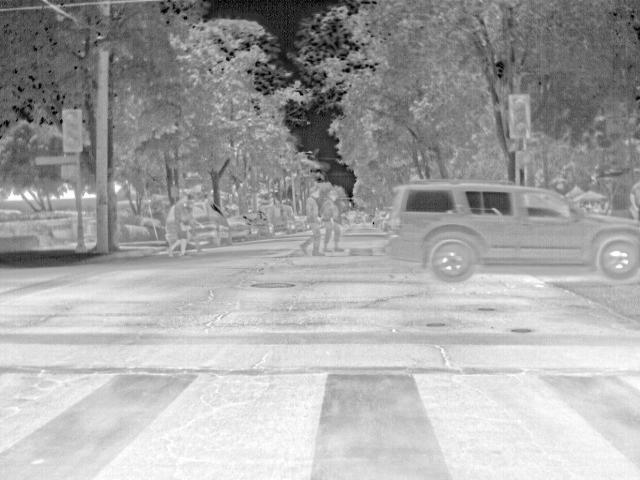car: (382, 183, 638, 279), (193, 200, 227, 246), (260, 202, 295, 234), (222, 210, 251, 243), (247, 212, 264, 241)
person: (297, 184, 327, 257), (164, 189, 195, 256), (318, 188, 344, 250)
